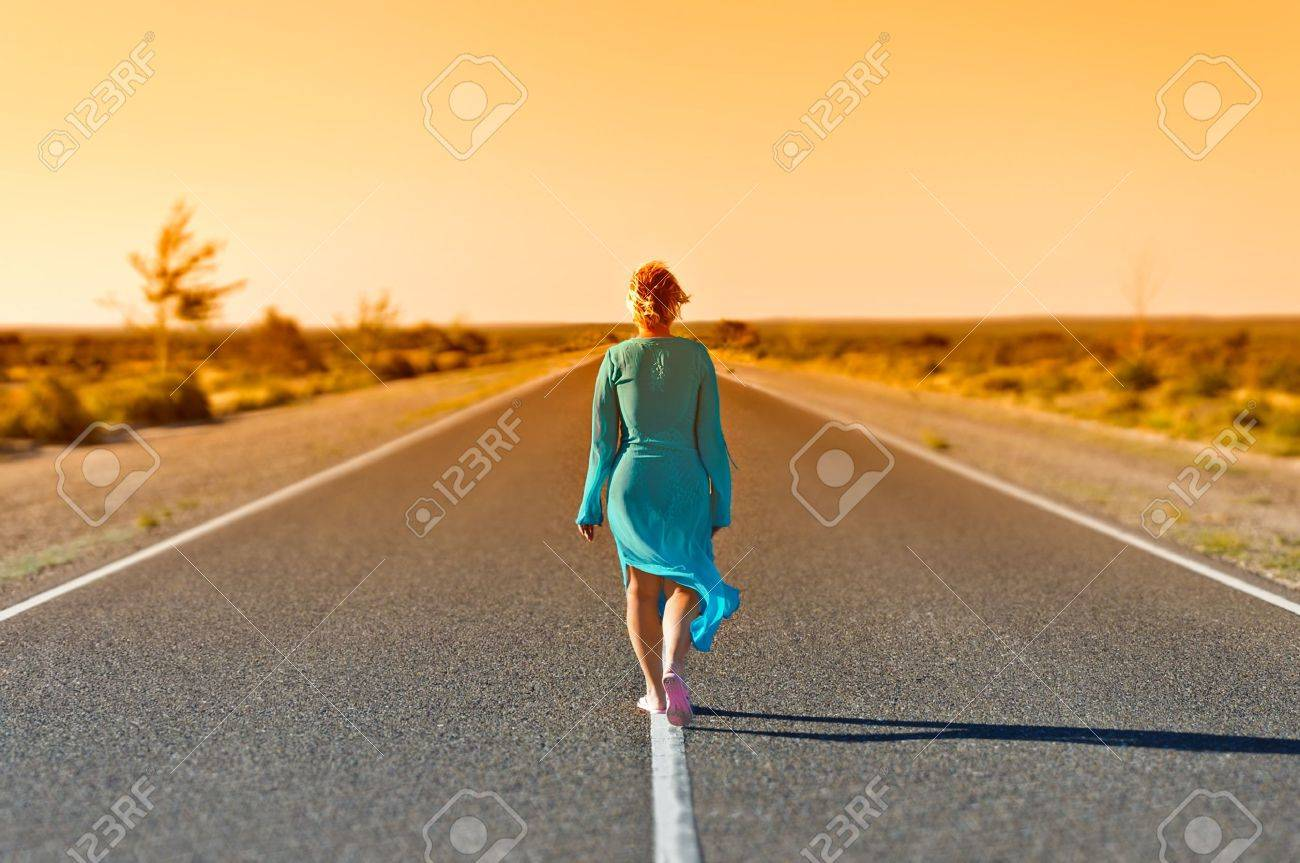Person: (549, 246, 759, 732)
